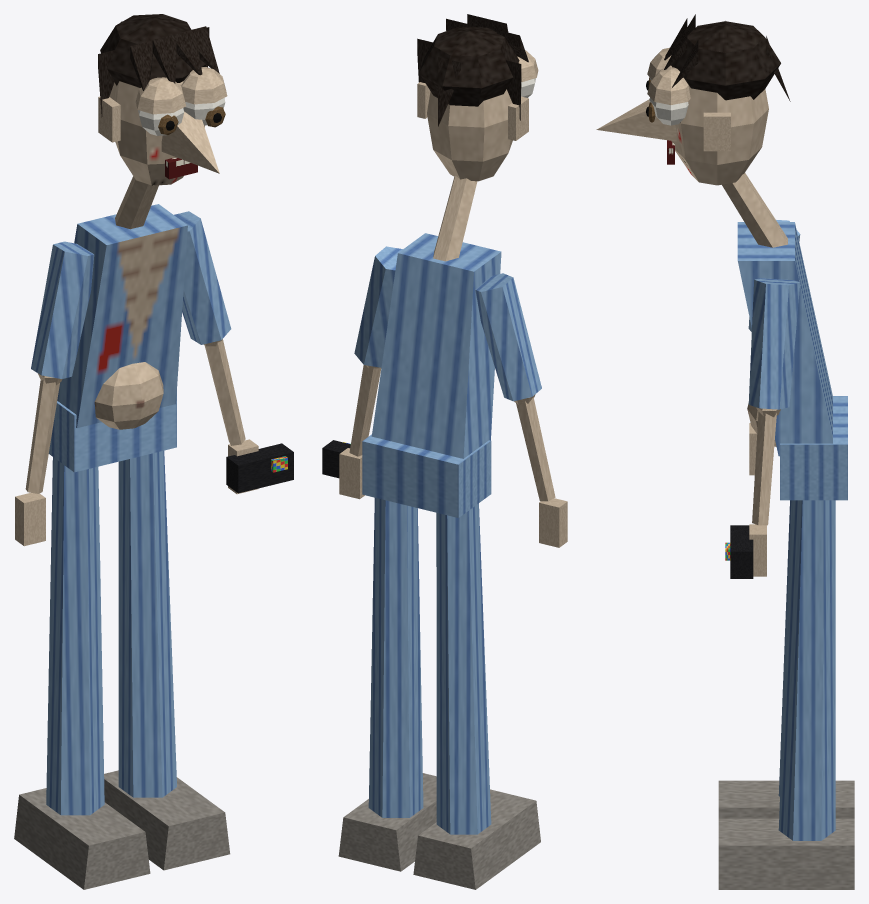
File: Boss_Kevin.fbx
The picture shows the model from 3 angles, left to right: view 1: azimuth 30°, elevation 25°; view 2: azimuth 150°, elevation 25°; view 3: azimuth 270°, elevation 25°; orthographic projection. The views are drawn at different scales.
Parts seen in each view (by area): view 1: Kevin_Export; view 2: Kevin_Export; view 3: Kevin_Export.
Part boxes in pixels (x1,y1,x2,y2): Kevin_Export: [14, 14, 293, 889]; Kevin_Export: [322, 14, 567, 889]; Kevin_Export: [596, 14, 854, 889].
Size of the model in its own units: 2.15 by 6.72 by 1.9.
Materials: 1 (1 with a texture image).
